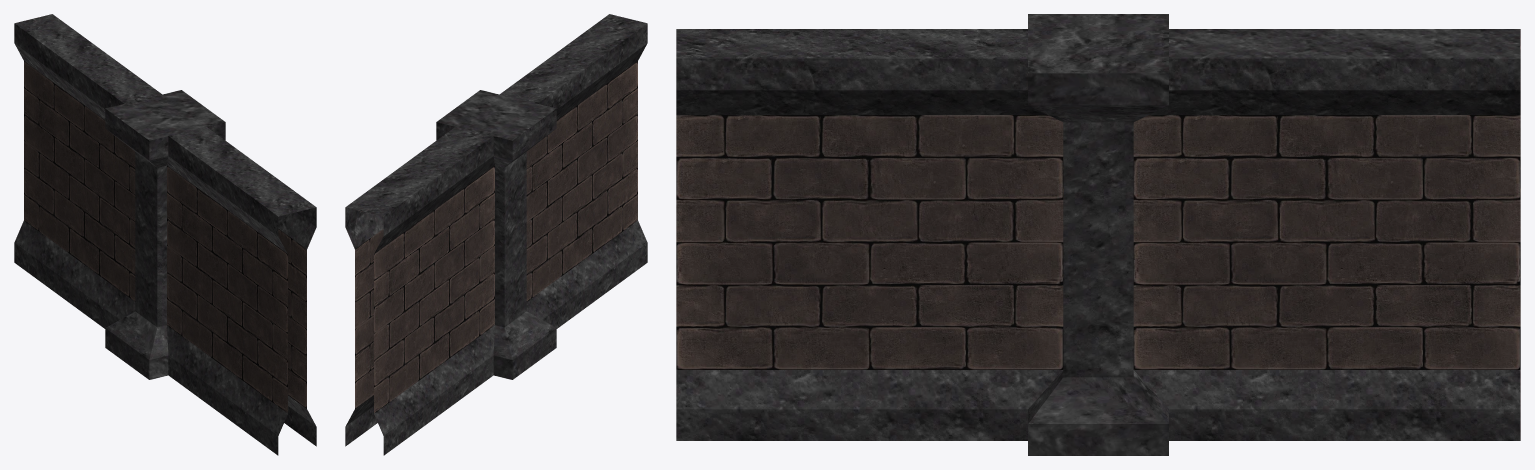
File: Bk_Wall3.glb
The picture shows the model from 3 angles, left to right: view 1: azimuth 30°, elevation 25°; view 2: azimuth 150°, elevation 25°; view 3: azimuth 270°, elevation 25°; orthographic projection. The views are drawn at different scales.
Parts seen in each view (by area): view 1: Bk_Wall3; view 2: Bk_Wall3; view 3: Bk_Wall3.
Part boxes in pixels (x1,y1,x2,y2): Bk_Wall3: (14,14,316,455); Bk_Wall3: (345,14,647,455); Bk_Wall3: (676,14,1520,455).
Size of the model in its own units: 1 by 3 by 6.
1 material, 1 textured.
